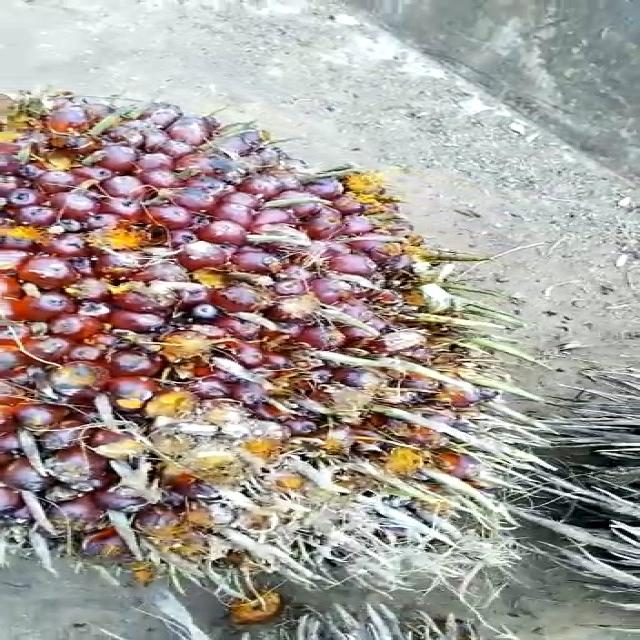palm oil: (0, 89, 495, 583)
